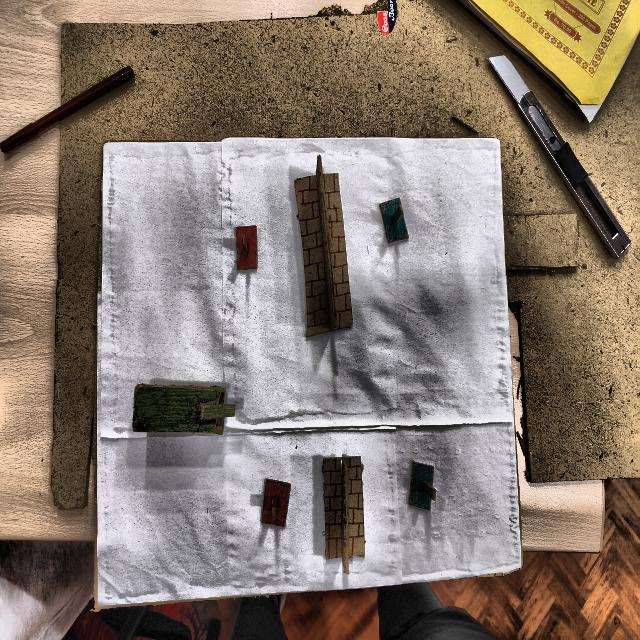Tank: (131, 383, 241, 438)
Wall: (292, 154, 355, 341), (320, 456, 367, 577)
enemy: (260, 477, 296, 546), (231, 223, 264, 284)
friend: (407, 456, 440, 535), (376, 196, 412, 249)
